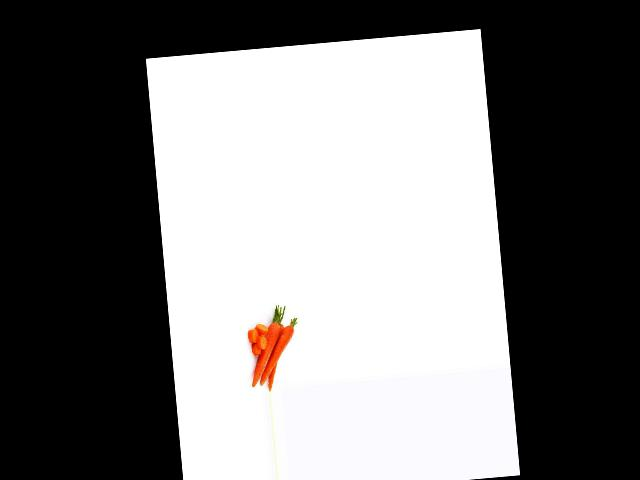carrot: (245, 316, 286, 388)
